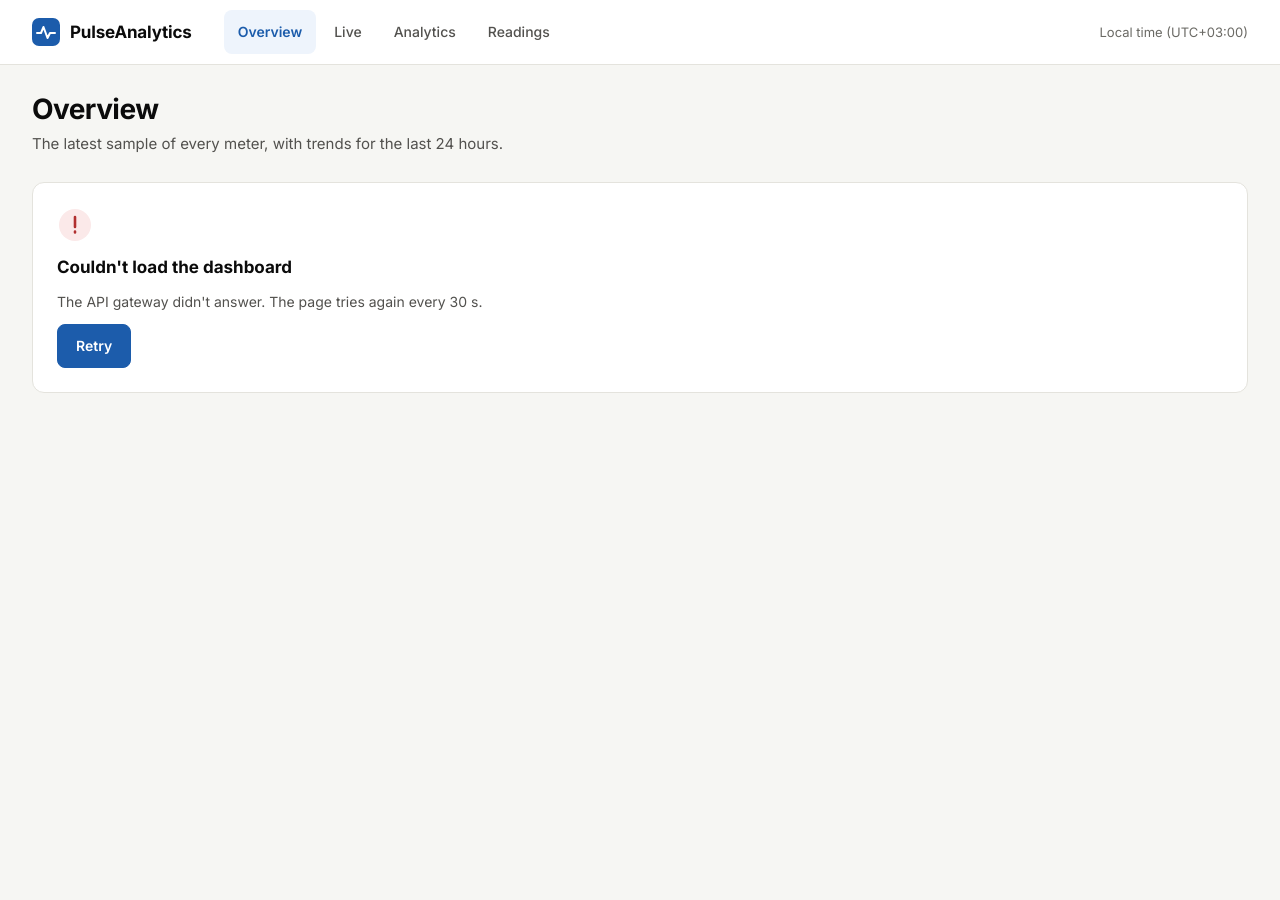
Test case: AppLayout › opens the page picked in the nav
Click the link "Readings".
click(519, 31)  # box [488, 23, 550, 40]
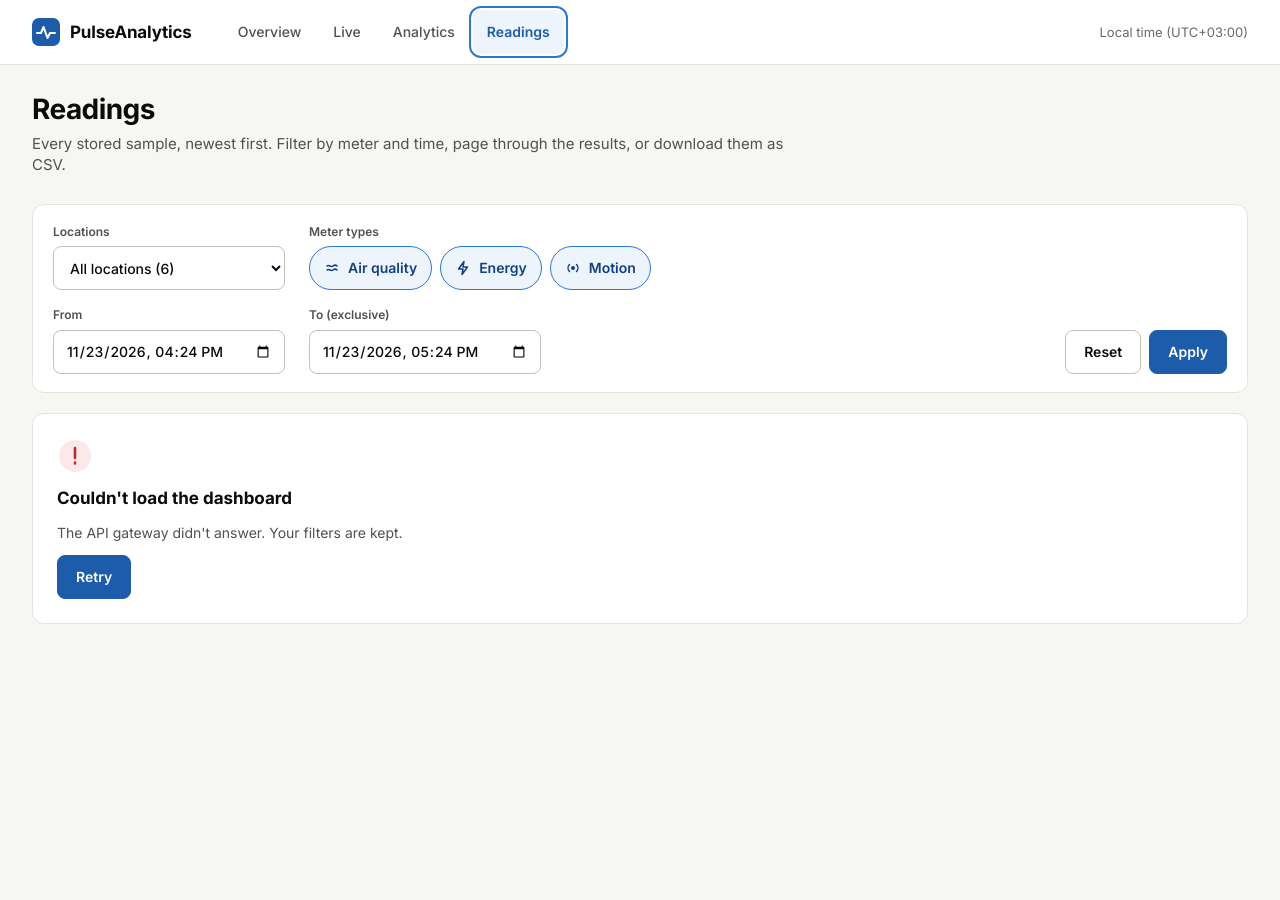
expect the heading "Readings" is shown: met, box [32, 92, 155, 126]
